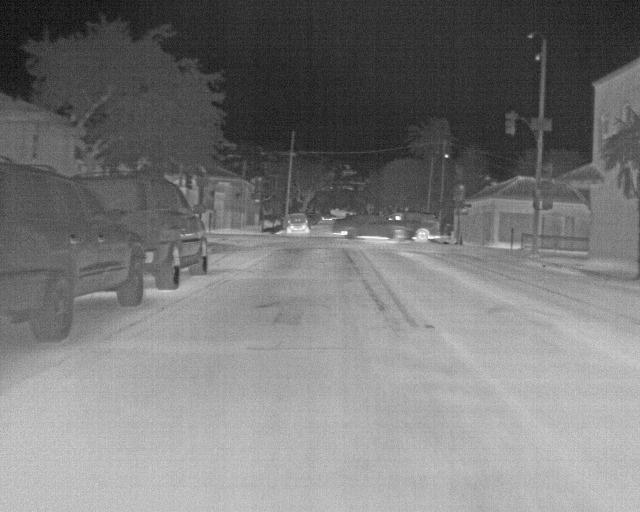car: (0, 158, 148, 343), (142, 172, 209, 290), (328, 211, 413, 241), (412, 209, 440, 242), (286, 211, 312, 234), (320, 210, 333, 222)
